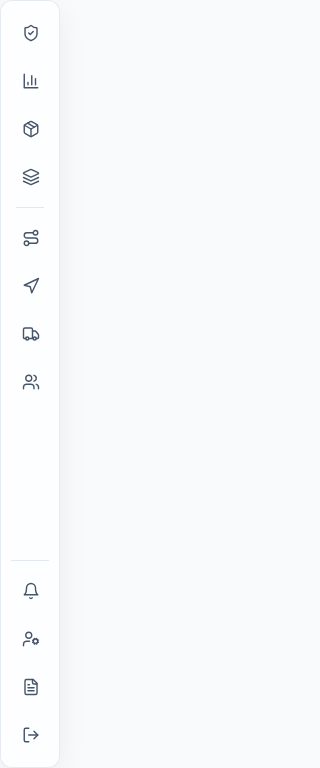
Scenario: AdminSidebar Hover-Expand & Retract (Quick Task) › retracts back when the cursor is moved away (mouseLeave)
// Hover to expand
Hover over the element with test id "admin-sidebar" at x=30, y=384, box [0, 0, 60, 767]
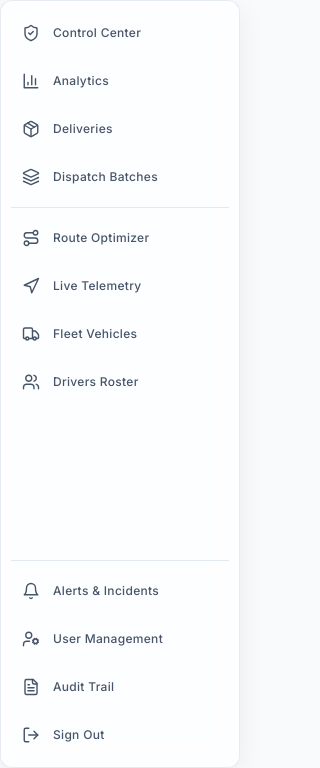
expect the element with test id "admin-sidebar" is expanded: met
// Leave to retract
Move the pointer off the element with test id "admin-sidebar"
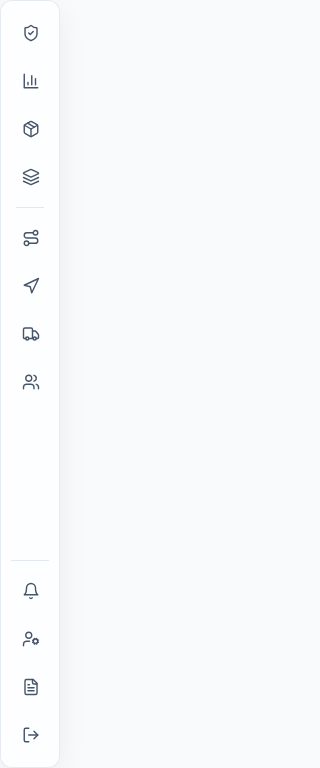
expect the element with test id "admin-sidebar" is collapsed: met, box [0, 0, 60, 767]
